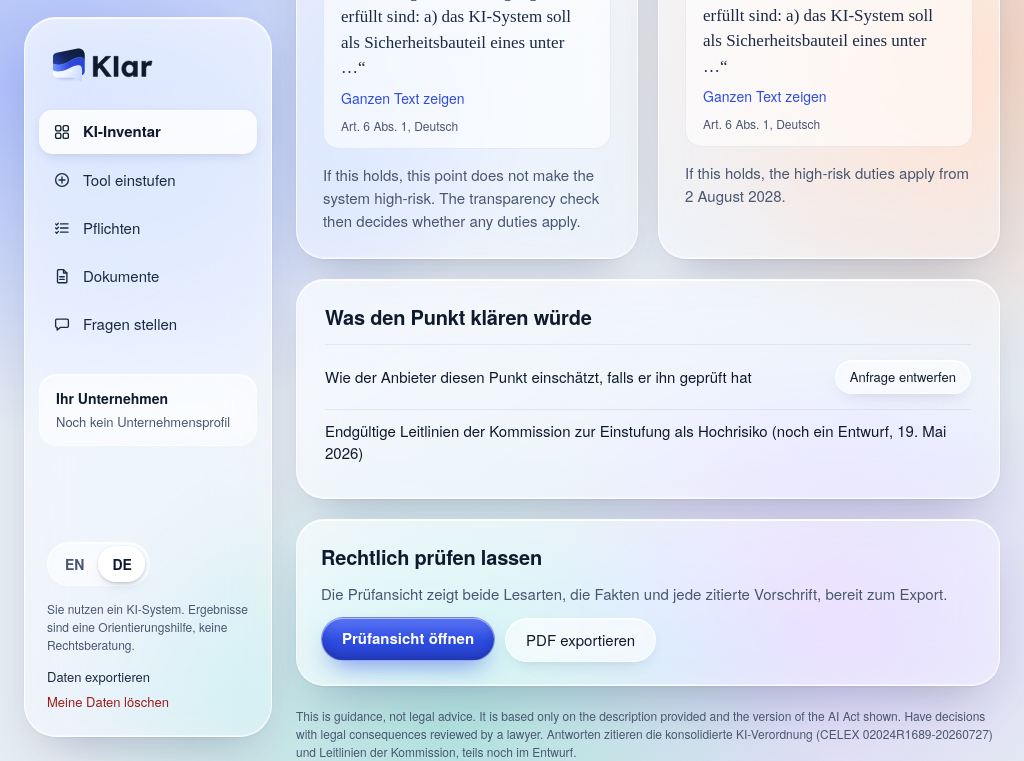
A legally ambiguous result (de) › has no accessibility violations (axe), on the screen and in the request
(page scrolled)
Click the button "Anfrage entwerfen" at (903, 377), box [835,360,971,394]
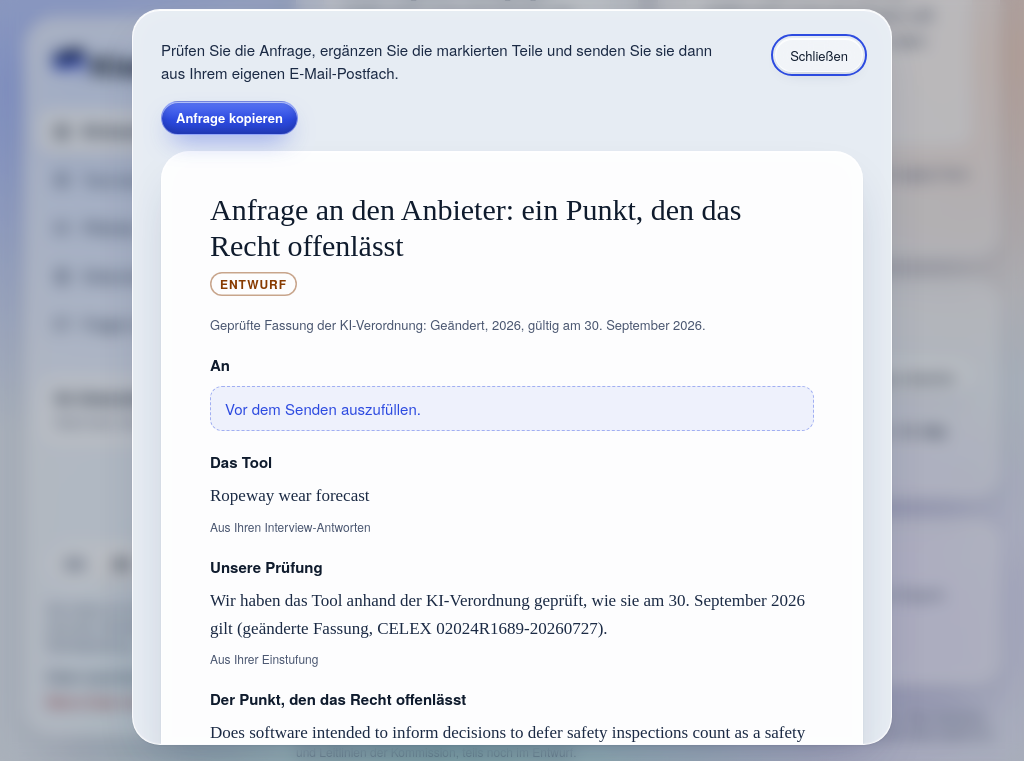
Result: the button "Anfrage kopieren" is shown at [161,100,298,134]
